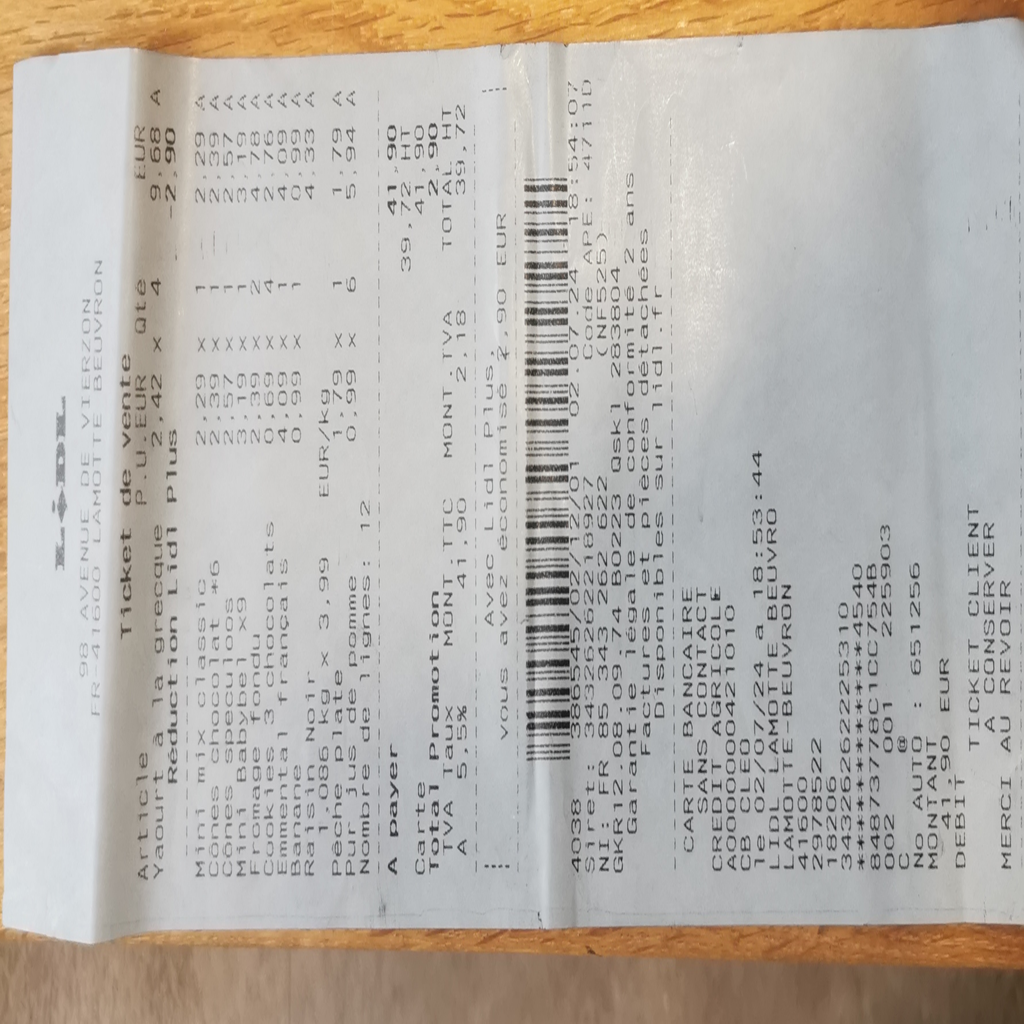recipt: (4, 17, 1024, 951)
